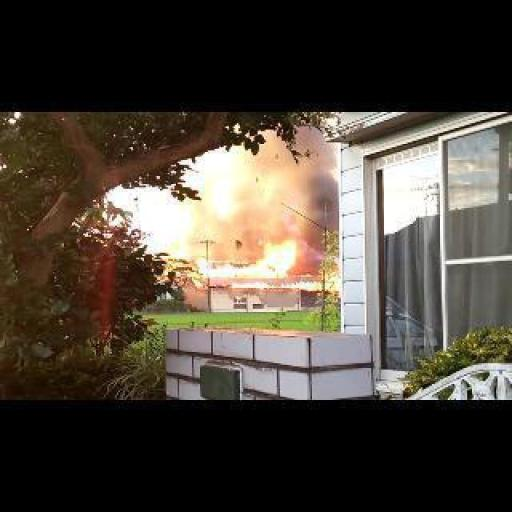smoke: (198, 243, 288, 277), (166, 261, 204, 286), (229, 282, 318, 291), (298, 272, 312, 277)
